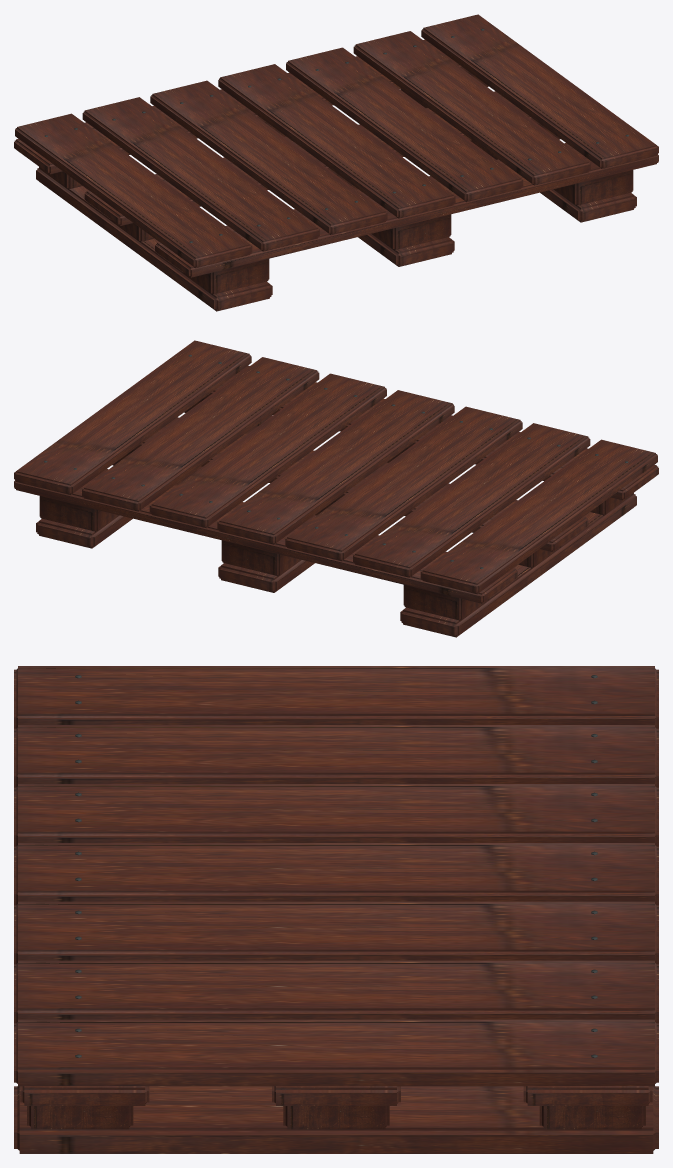
File: cargo-pallet.glb
The picture shows the model from 3 angles, top to bottom: view 1: azimuth 30°, elevation 25°; view 2: azimuth 150°, elevation 25°; view 3: azimuth 270°, elevation 25°; orthographic projection. The views are drawn at different scales.
Visible parts, largest first — view 1: Frame; view 2: Frame; view 3: Frame.
Boxes of the visible parts, <box> form: Frame: <box>14,14,658,311</box>; Frame: <box>14,340,658,637</box>; Frame: <box>14,666,658,1153</box>.
Bounding box in the file's own units: 1.2 × 0.146 × 0.8.
Materials: 2 (1 with a texture image).
